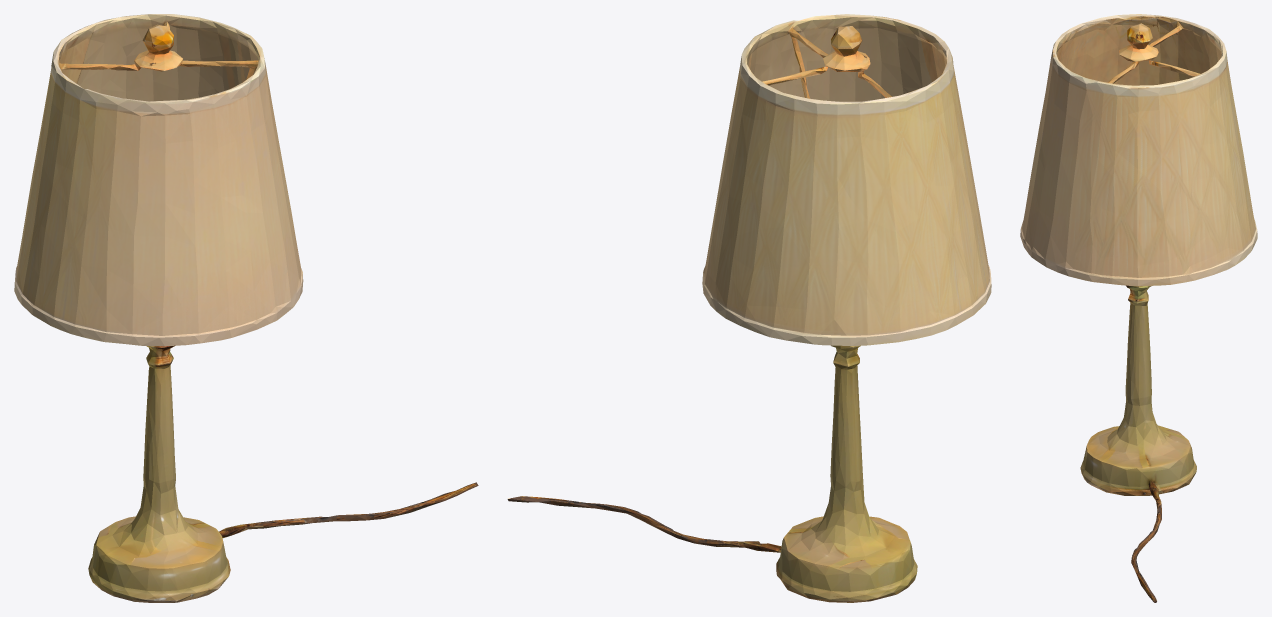
File: 1950s_lamp_middle_c_0401221637_texture.fbx
3 renders of one model, left to right at view 1: azimuth 30°, elevation 25°; view 2: azimuth 150°, elevation 25°; view 3: azimuth 270°, elevation 25°, orthographic. The views are drawn at different scales.
Visible parts, largest first — view 1: temp; view 2: temp; view 3: temp.
Part boxes in pixels (left/top/right/bottom): temp: left=14, top=14, right=478, bottom=602; temp: left=507, top=14, right=991, bottom=602; temp: left=1020, top=14, right=1257, bottom=602.
Bounding box in the file's own units: 174 × 200 × 95.98.
Materials: 1 (1 with a texture image).
